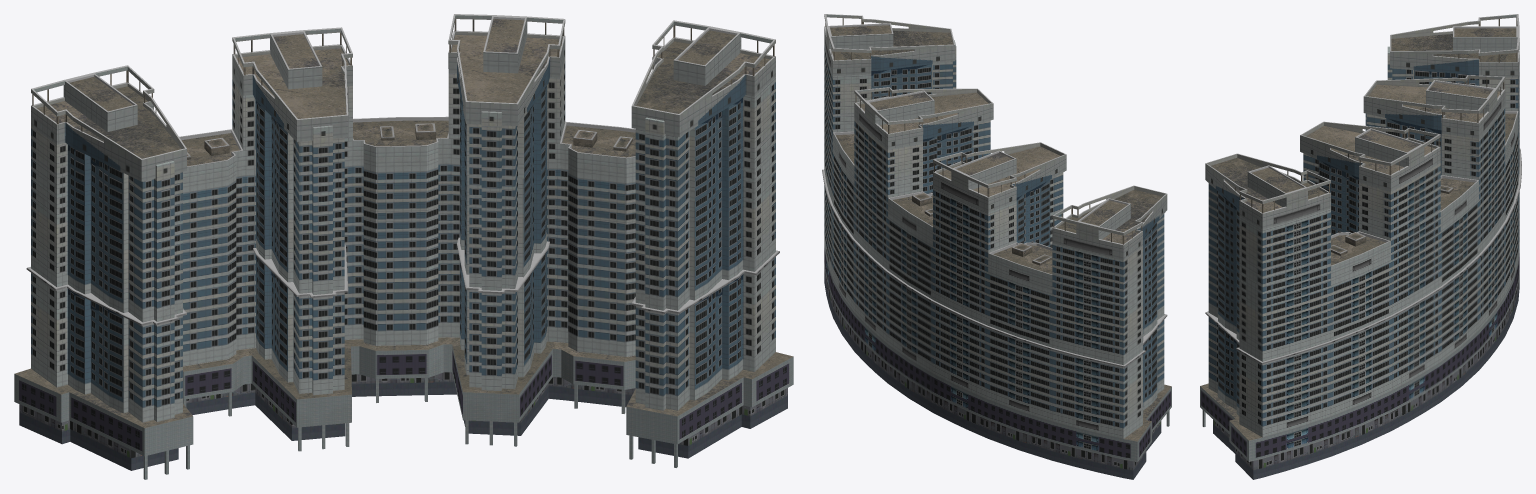
Rendered from complete.glb.
3 views of the same model, side by side, from view 1: azimuth 30°, elevation 25°; view 2: azimuth 150°, elevation 25°; view 3: azimuth 270°, elevation 25° (orthographic). The views are drawn at different scales.
Visible parts, largest first — view 1: LOD0; view 2: LOD0; view 3: LOD0.
Part boxes in pixels (x1,y1,x2,y2): LOD0: (14, 14, 793, 479); LOD0: (822, 14, 1171, 479); LOD0: (1200, 14, 1521, 479).
Bounding box in the file's own units: 2.01 × 1.17 × 1.23.
1 material, 1 textured.
